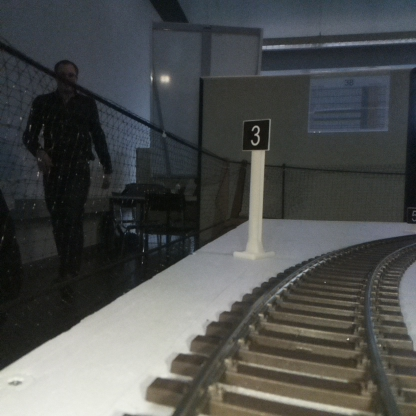black-info-3: (243, 118, 269, 256)
